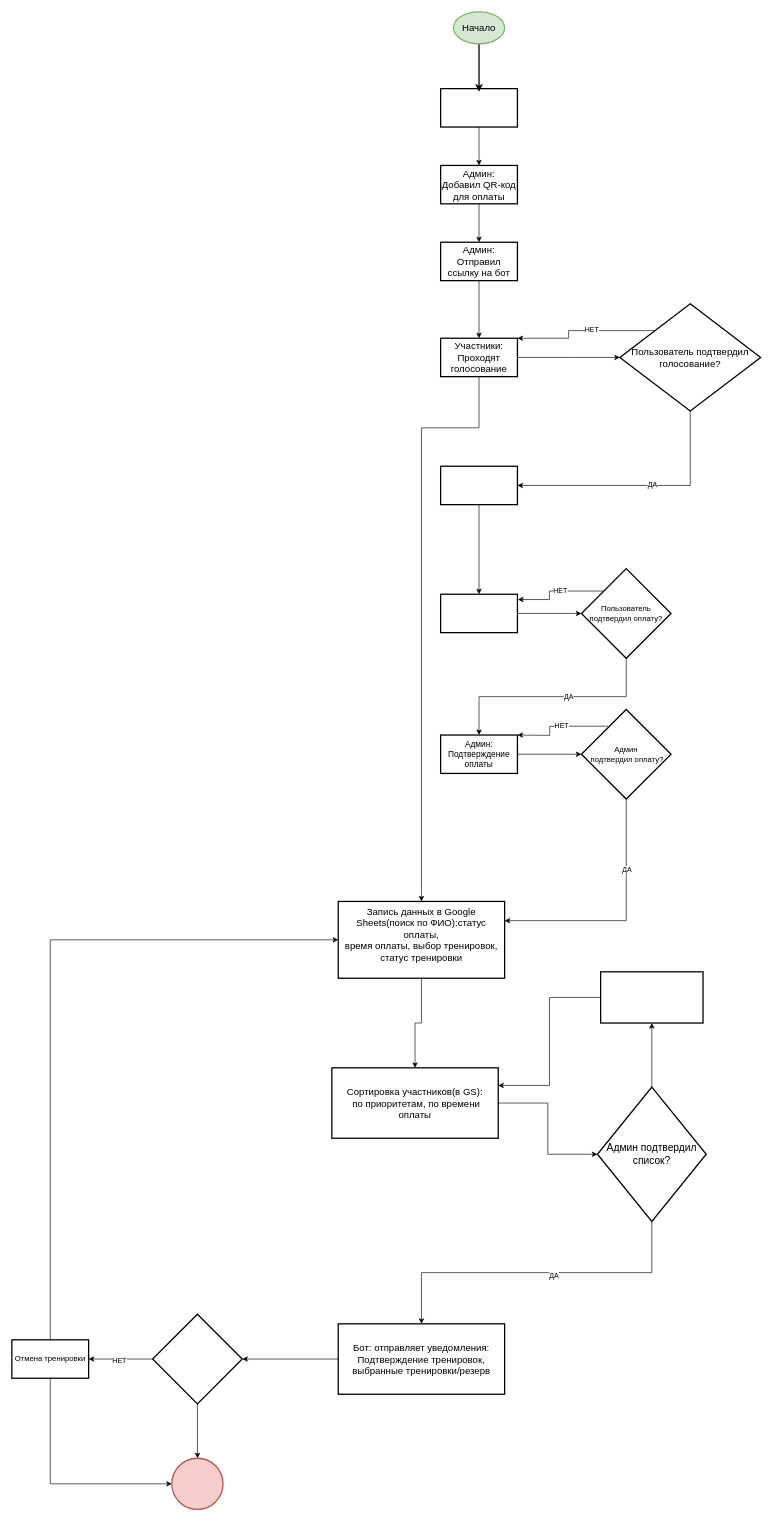
Some shapes in this 772 by 1521 pixel diagram are drawn without their labels. Here are the shapes that lost their labels. From the top down, the centre of each, then its label:
At (x=479, y=107): "Админ: Создание опроса".
At (x=479, y=485): "Бот: Отправка QR-кода для оплаты".
At (x=479, y=613): "Пользователь: Подтверждение оплаты".
At (x=651, y=997): "Внесение корректировок".
At (x=197, y=1358): "Пользователь подтвердил участие в тренировках?".
At (x=197, y=1483): "Конец".
